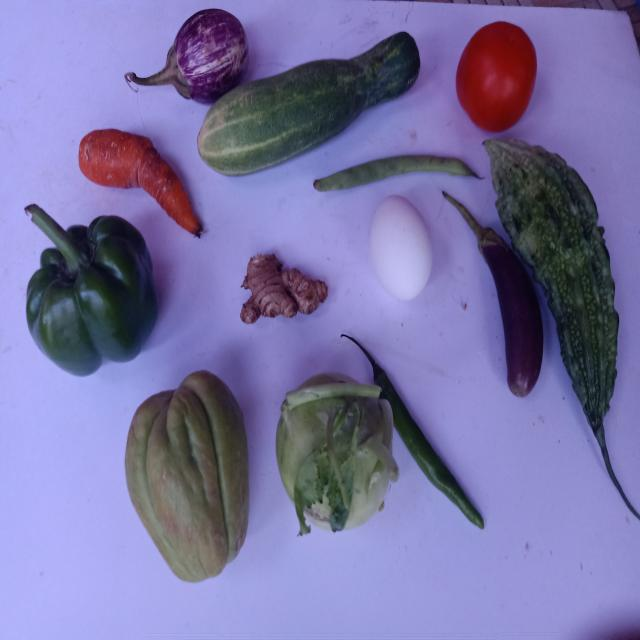Beans: (314, 154, 481, 190)
Bitter Gourd: (485, 138, 640, 520), (457, 20, 538, 131)
Brinjal: (445, 193, 544, 397)
Capsicum: (24, 204, 157, 375)
Carrot: (78, 128, 202, 236)
Chayote: (124, 371, 249, 583)
Cucumber: (197, 30, 421, 174)
Egg: (370, 194, 433, 300)
Eggplant: (127, 7, 248, 102)
Ginger: (240, 254, 328, 323)
Green Chilly: (341, 334, 485, 529)
Tomato: (457, 20, 538, 131)
Turnip: (276, 373, 398, 535)
